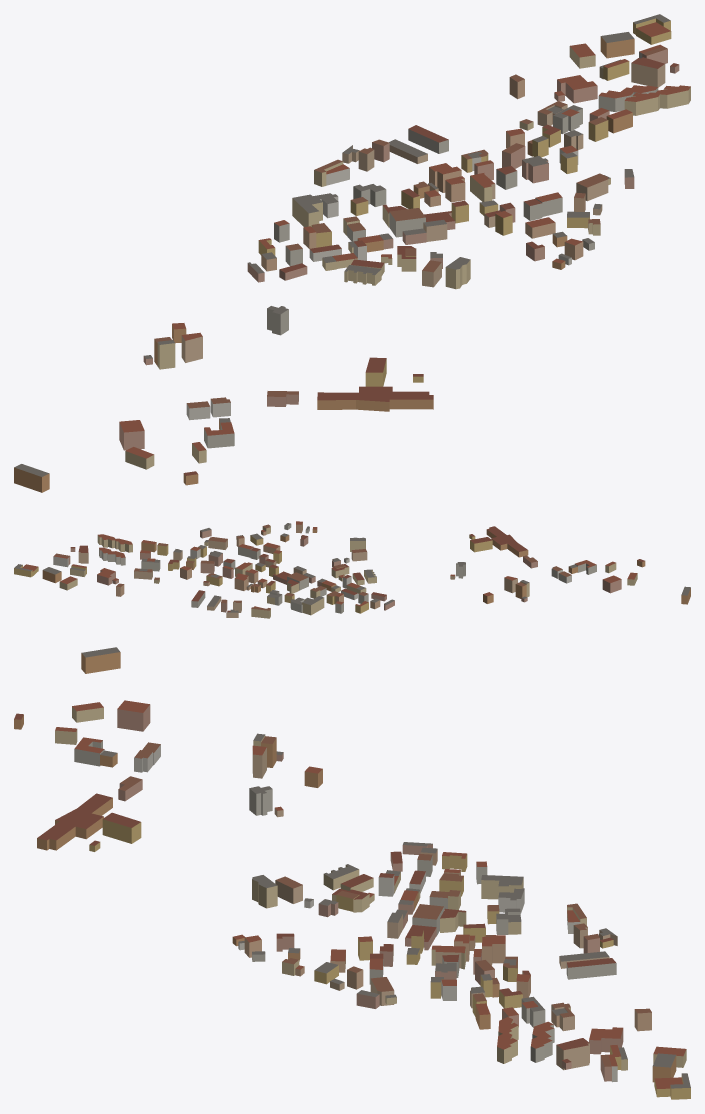
Rendered from SM_Fondale_Citta_N_02.fbx.
3 renders of one model, top to bottom at view 1: azimuth 30°, elevation 25°; view 2: azimuth 150°, elevation 25°; view 3: azimuth 270°, elevation 25°, orthographic. The views are drawn at different scales.
Visible parts, largest first — view 1: SM_Fondale_Citta_N_02; view 2: SM_Fondale_Citta_N_02; view 3: SM_Fondale_Citta_N_02.
Part boxes in pixels (x1,y1,x2,y2): SM_Fondale_Citta_N_02: [14, 14, 690, 492]; SM_Fondale_Citta_N_02: [14, 521, 690, 618]; SM_Fondale_Citta_N_02: [14, 647, 690, 1099].
Bounding box in the file's own units: 86581 × 52857 × 4547.
